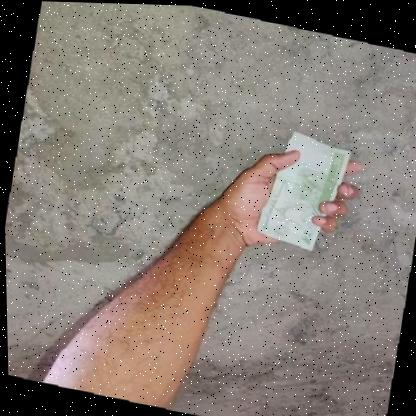fifty-back-vef: (251, 123, 353, 255)
